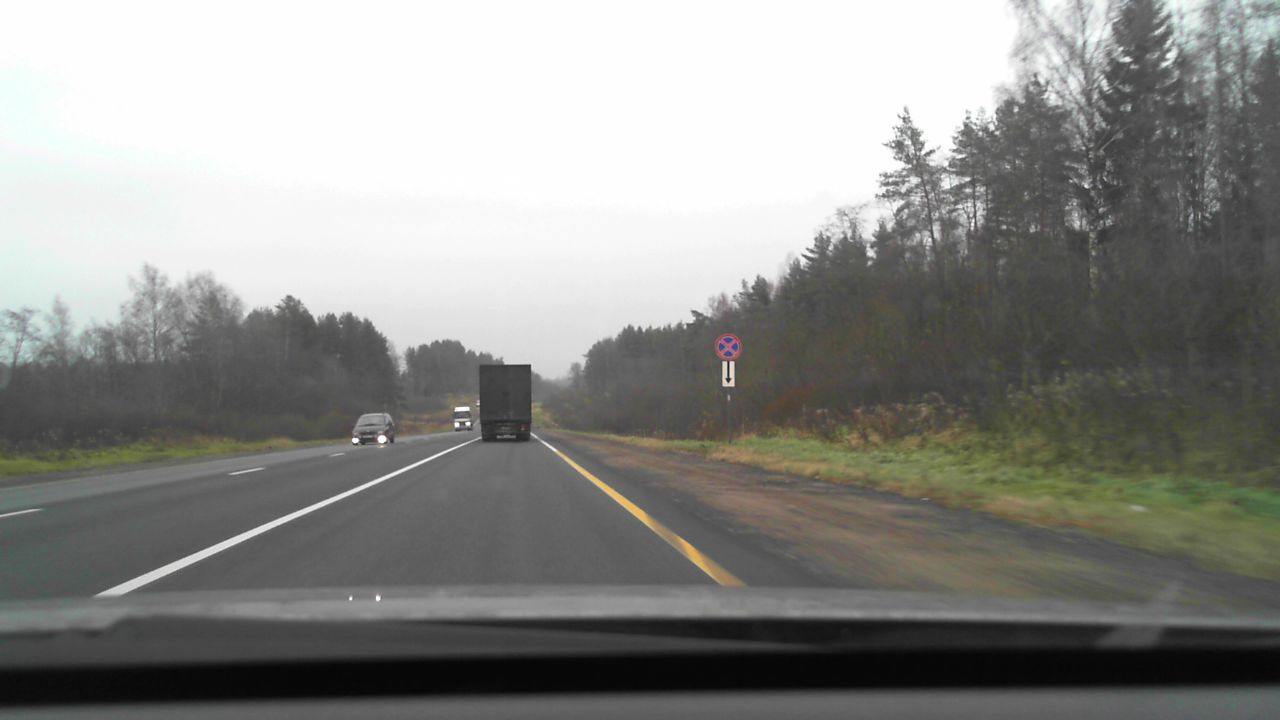No Parking: (713, 332, 742, 359)
